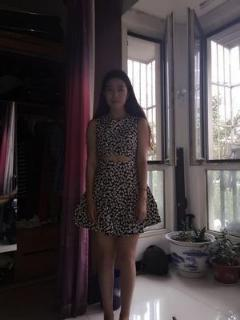vest: (72, 112, 161, 238)
